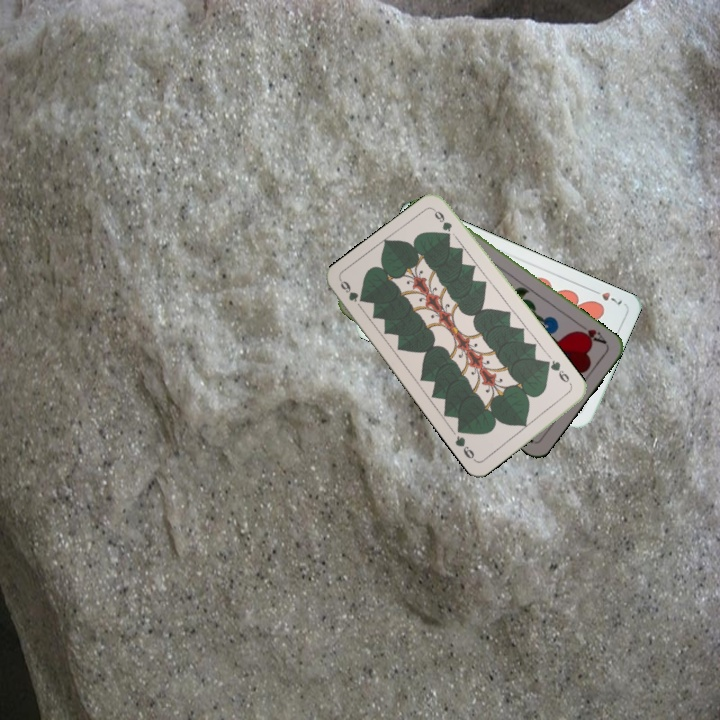G9: (543, 354, 575, 390), (336, 276, 367, 305)
H7: (587, 285, 625, 308)
HA: (573, 319, 610, 347)
